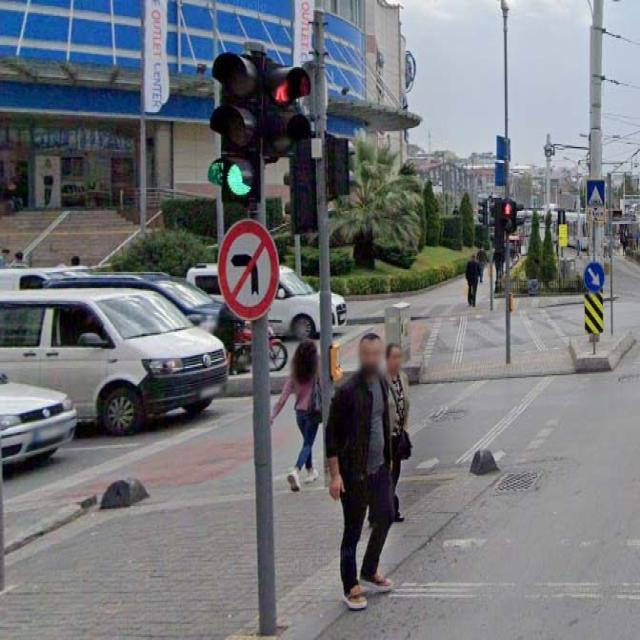soladonulmez: (218, 218, 278, 320)
yesil: (218, 55, 262, 201)
